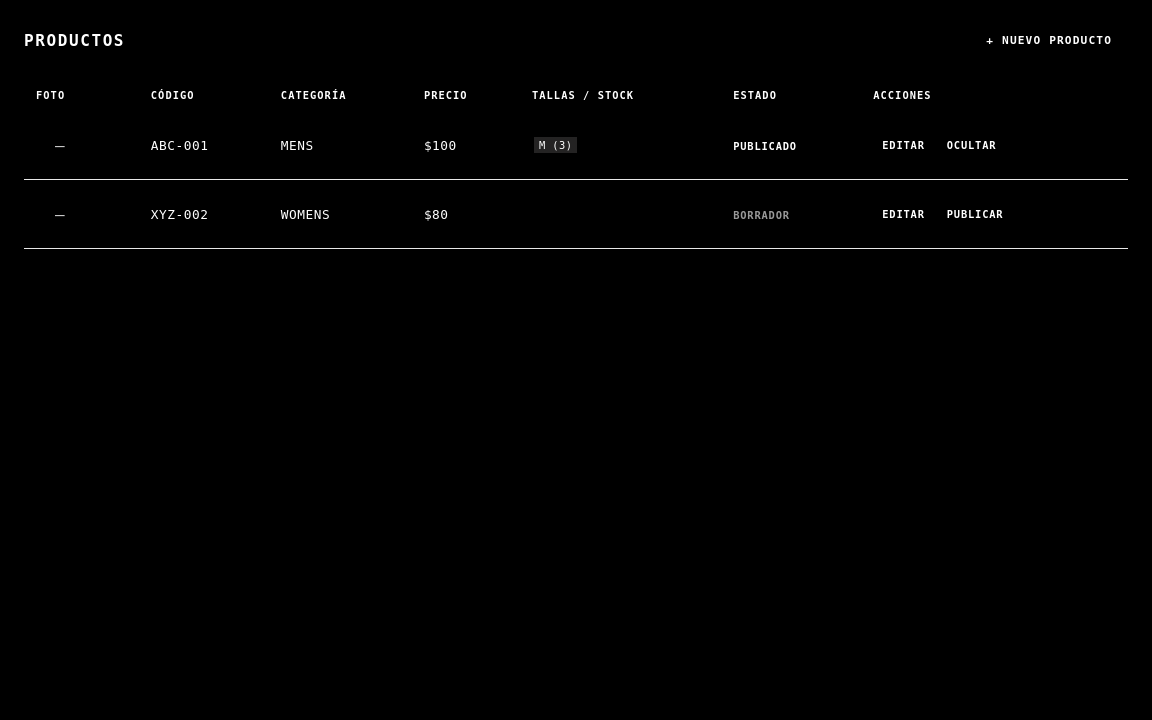
AdminProductos › clic en EDITAR muestra el formulario con datos del producto
Click the button with test id "edit-btn-p1" at (903, 145), box [873,134,934,156]
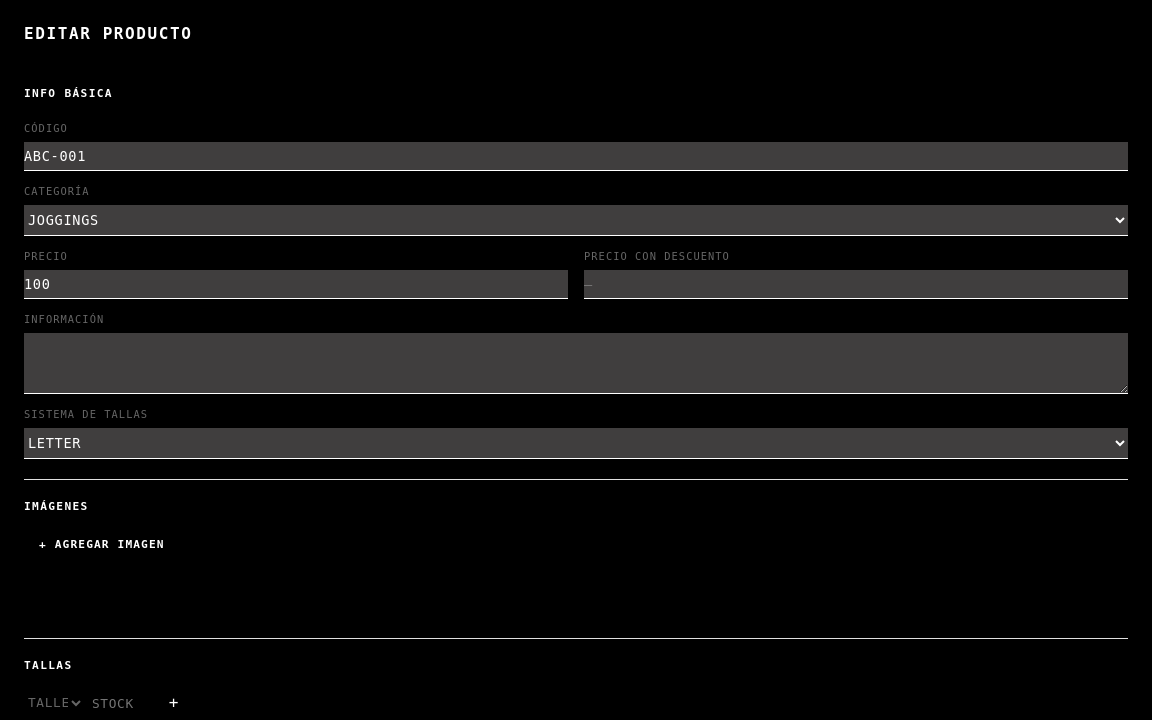
Result: the field with test id "input-code" holds "ABC-001" at [24,142,1128,171]
